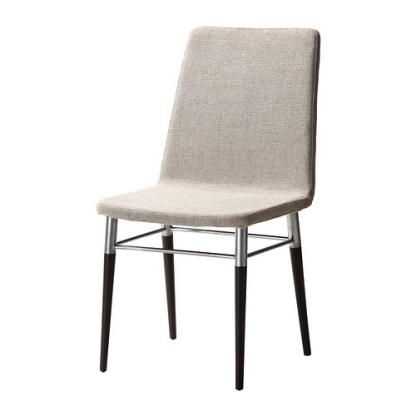Chair: (96, 23, 323, 392)
